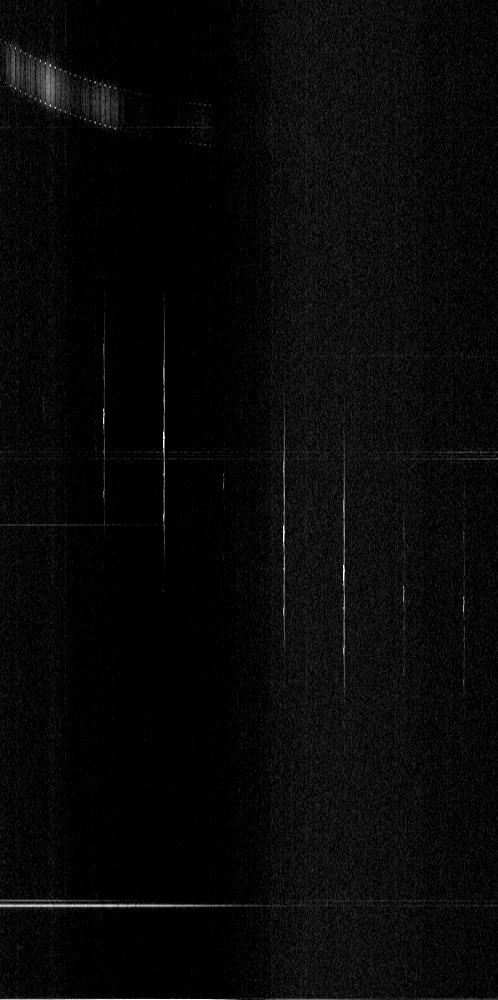signal: (0, 0, 497, 999)
